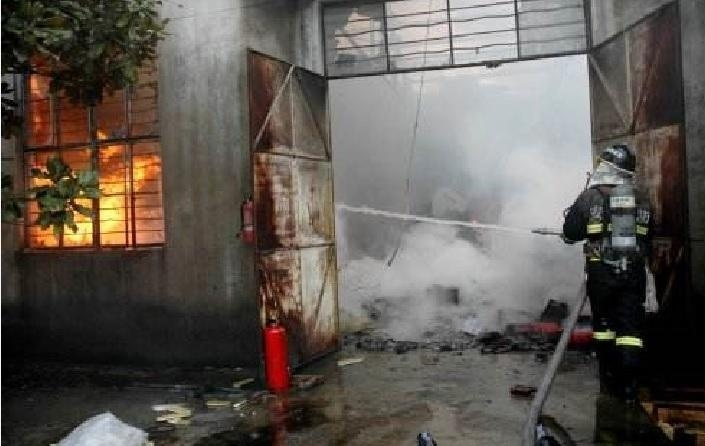fire: (22, 75, 164, 250)
